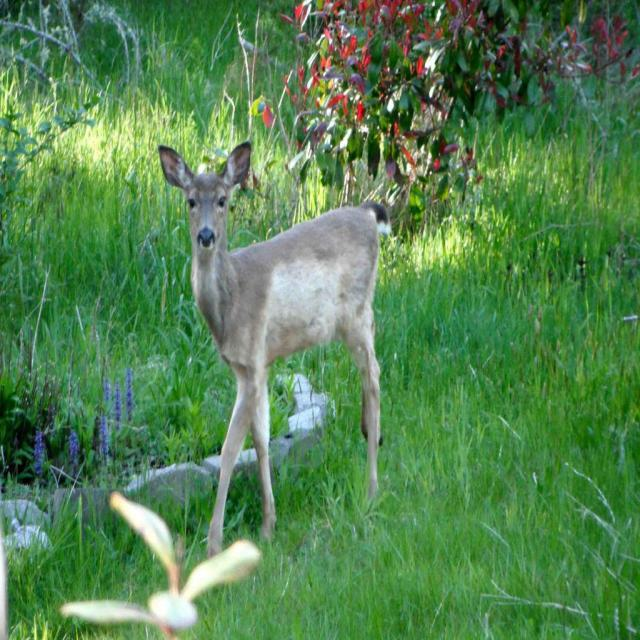Deer: (159, 143, 393, 557)
